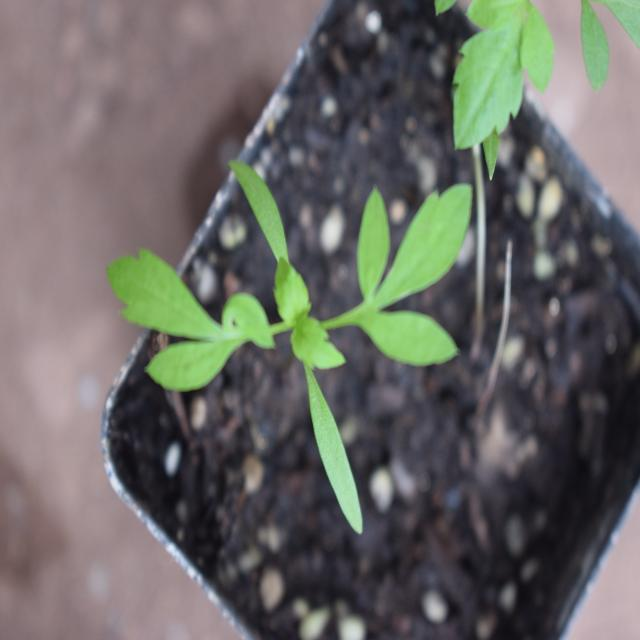Bidens pilosa: (102, 130, 468, 540)
